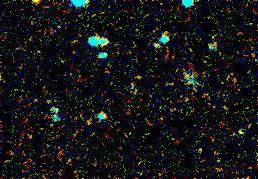star: (21, 0, 51, 19)
